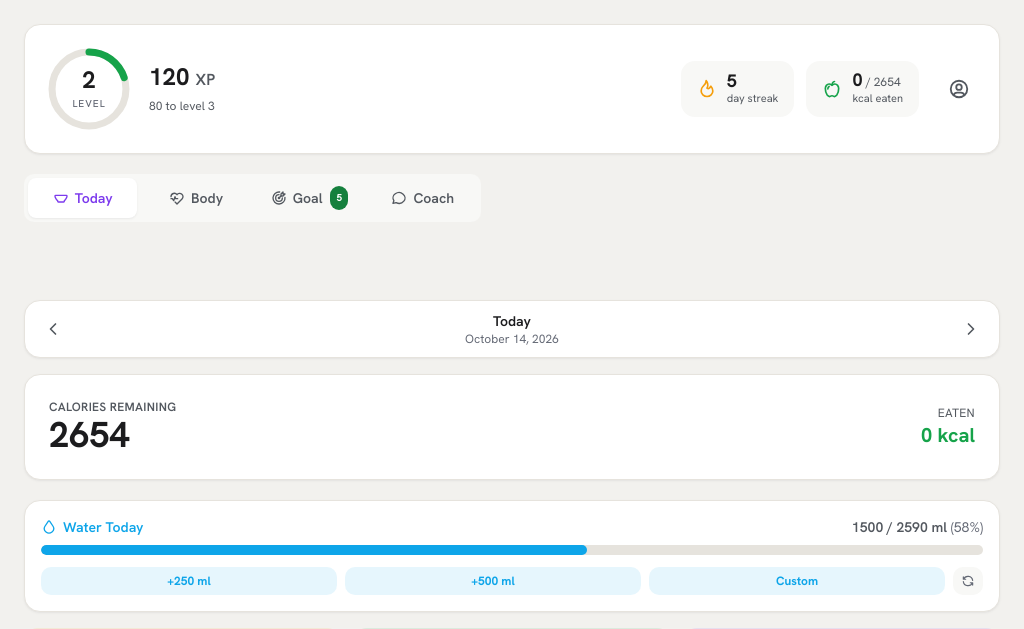
Scenario: Dashboard — v2 navigation › shows only one destination at a time
Expected: the heading "Calories Remaining" is shown, [49,399,176,415]
Step 1. Click the tab "Goal 5" → click(309, 198), box [255,178,364,218]
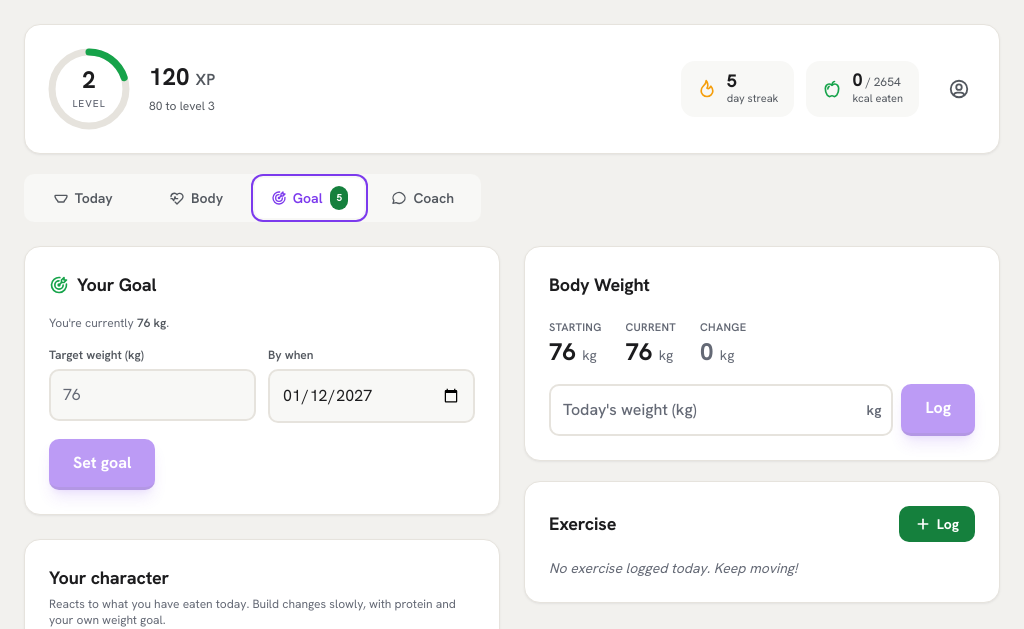
Result: the heading "Calories Remaining" is gone
